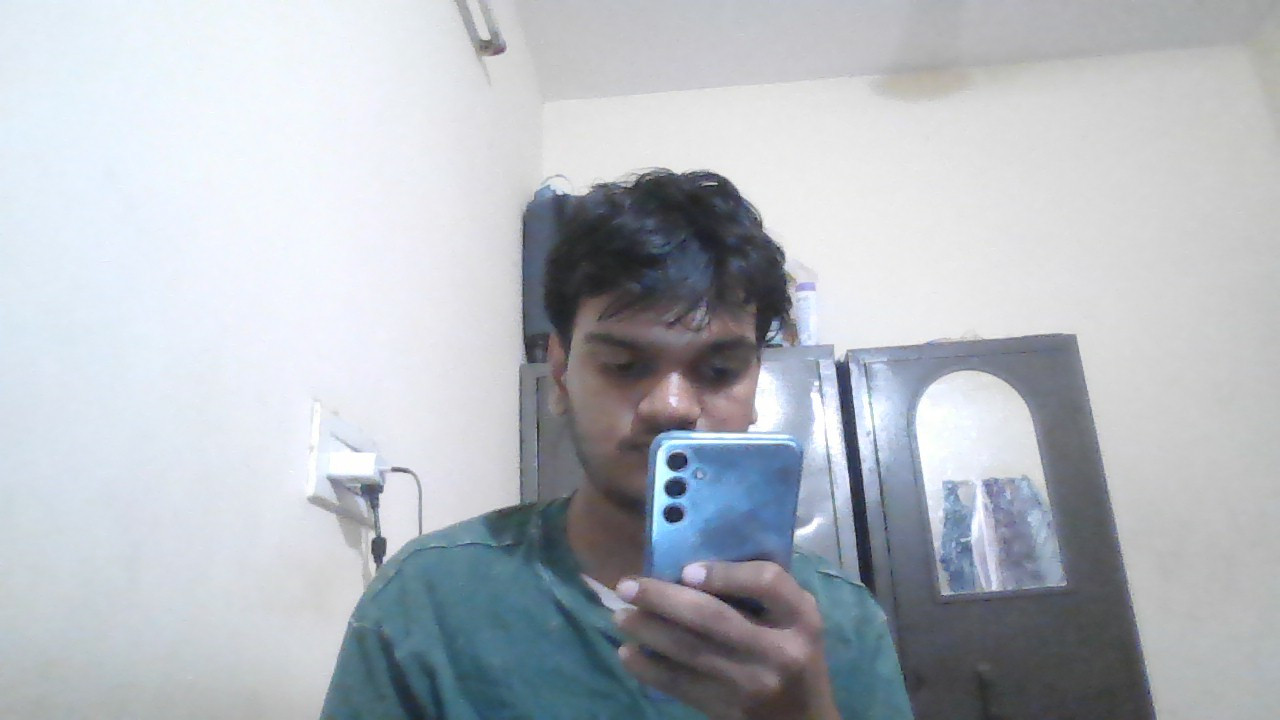phone: (640, 429, 808, 552)
